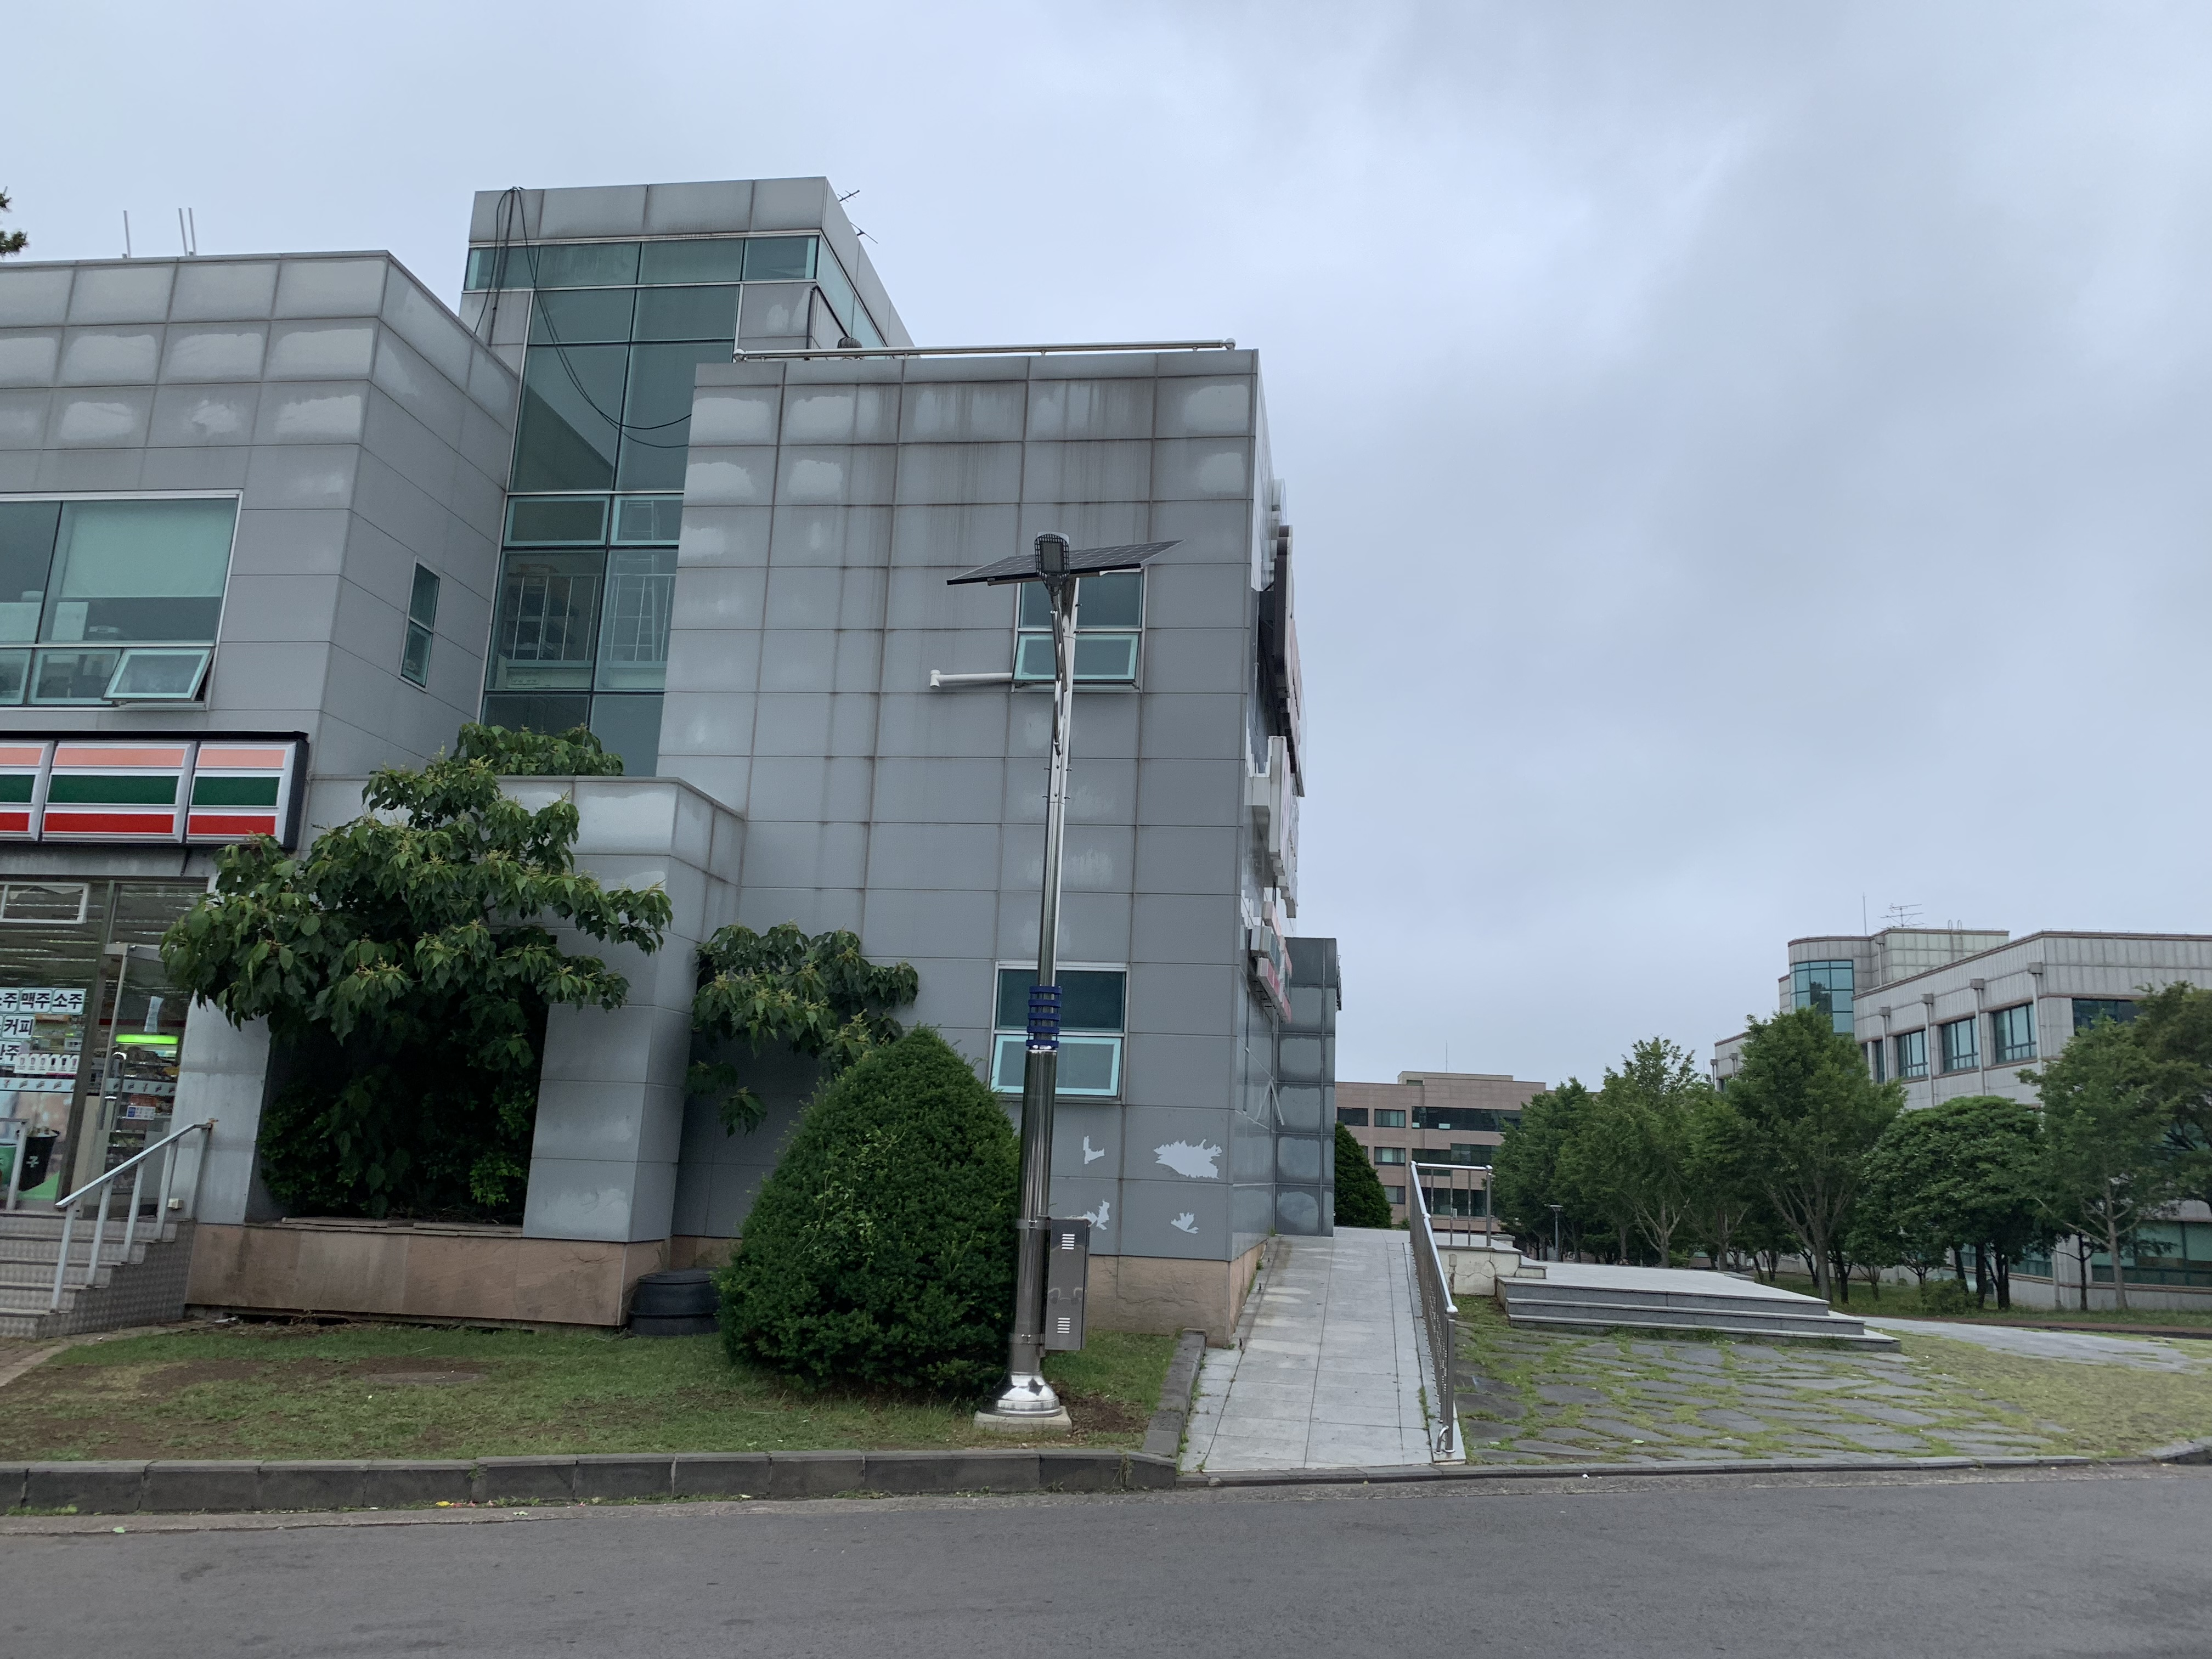Global House: (17, 261, 1334, 1373)
Joint Experimental Labs: (1339, 1066, 1606, 1263)
Second Library: (1775, 911, 2193, 1091)
